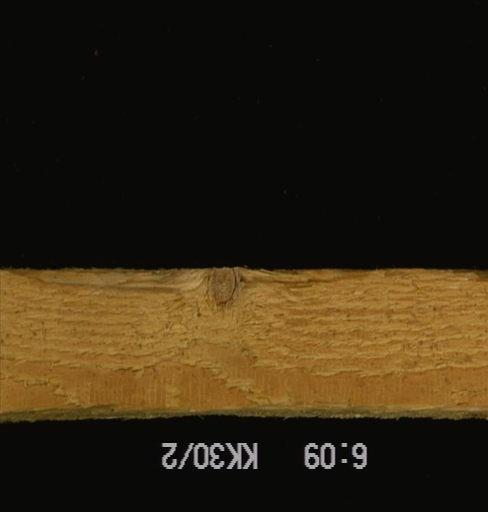sound_knot: (204, 267, 237, 307)
wave: (0, 266, 486, 278)
